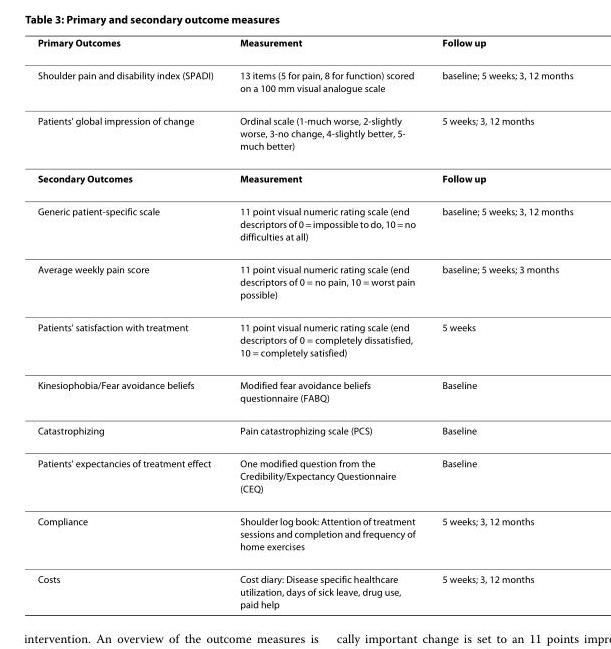table: (36, 36, 572, 609)
table column: (225, 36, 428, 609), (36, 36, 225, 609), (428, 36, 572, 609)
table column header: (36, 36, 572, 58)
table row: (36, 194, 572, 252), (36, 252, 572, 310), (36, 310, 572, 368), (36, 446, 572, 504), (36, 504, 572, 562), (36, 104, 572, 161), (36, 562, 572, 609), (36, 58, 572, 104), (36, 368, 572, 413), (36, 161, 572, 194), (36, 413, 572, 446), (36, 36, 572, 58)
